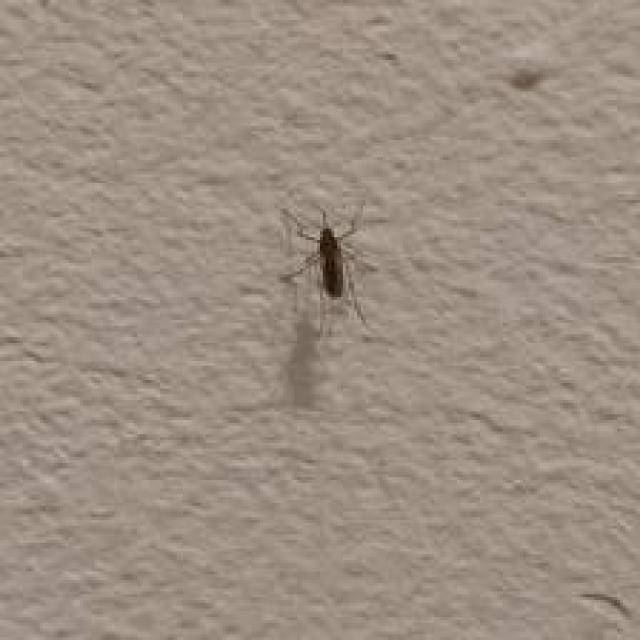Culex: (277, 198, 383, 338)
